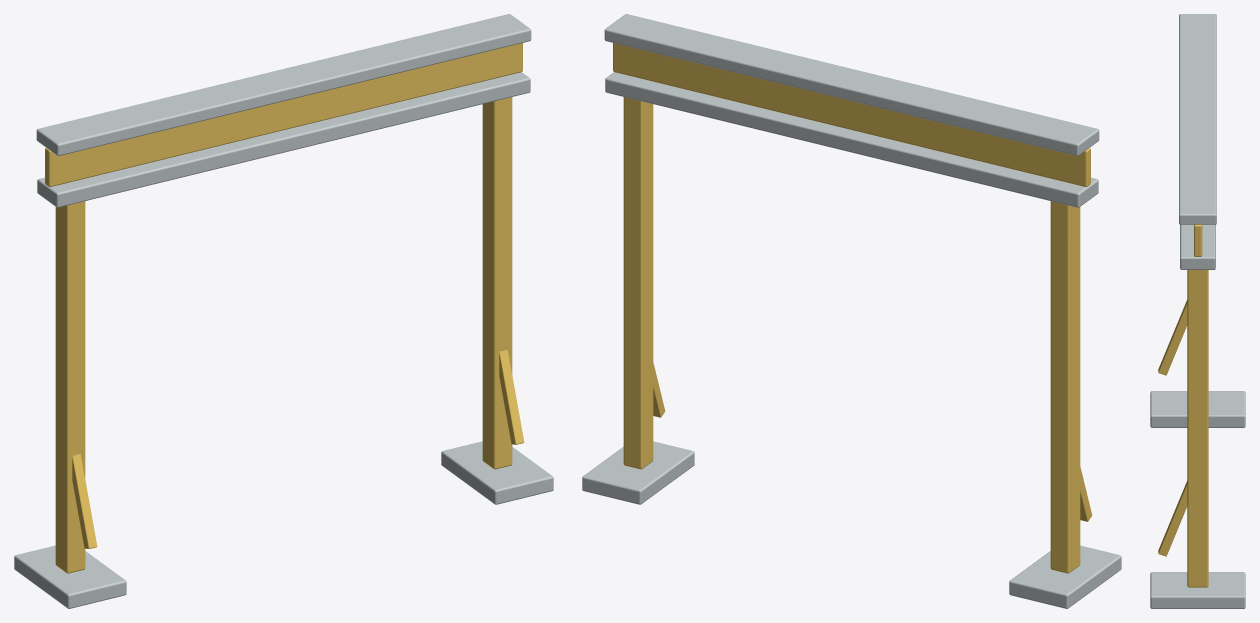
The model's file is hydroelectric-dam-infiltration-maintenance-gantry-350bc9cc__29355.glb.
The picture shows the model from 3 angles, left to right: view 1: azimuth 30°, elevation 25°; view 2: azimuth 150°, elevation 25°; view 3: azimuth 270°, elevation 25°; orthographic projection. The views are drawn at different scales.
Visible parts, largest first — view 1: maintenance-gantry; view 2: maintenance-gantry; view 3: maintenance-gantry.
Boxes of the visible parts, <box> form: maintenance-gantry: <box>14,14,553,608</box>; maintenance-gantry: <box>582,14,1121,608</box>; maintenance-gantry: <box>1150,14,1245,608</box>.
Bounding box in the file's own units: 4.1 × 3.64 × 0.7998.
